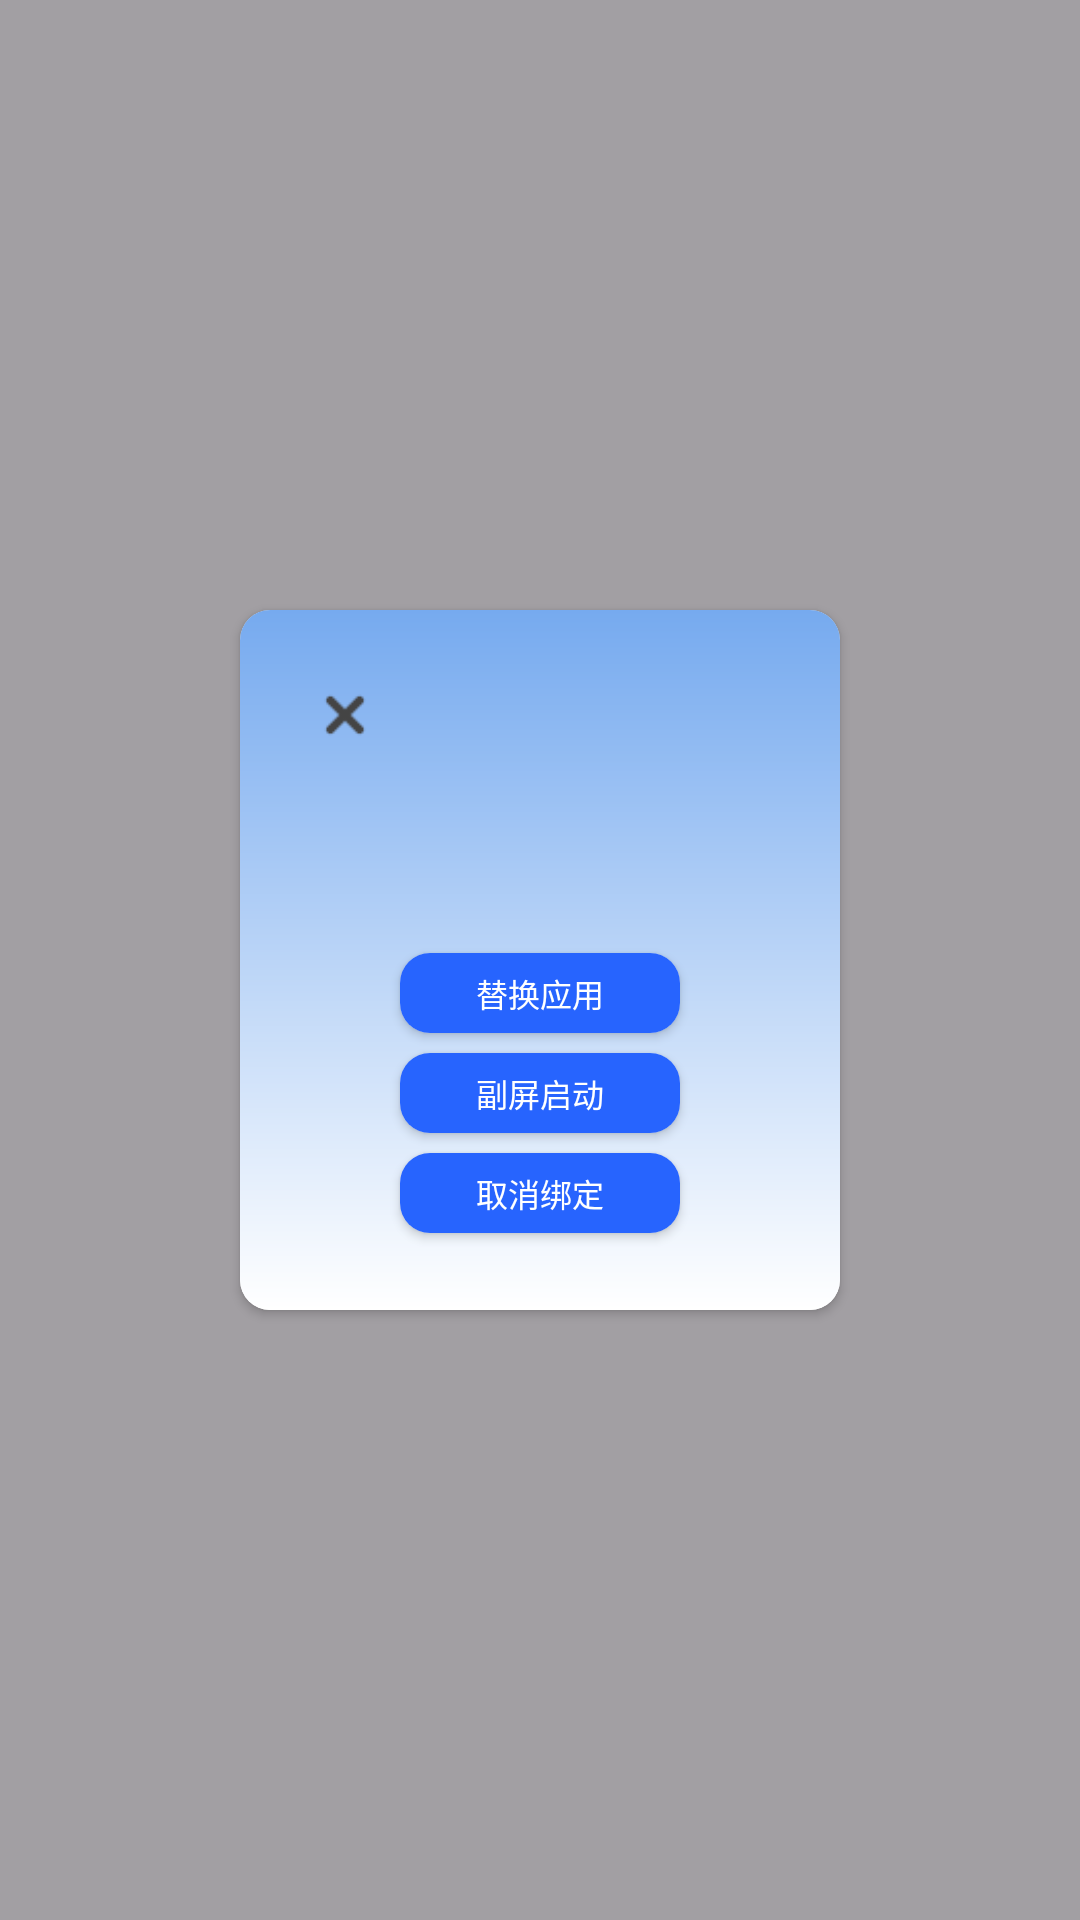

Where to tap for icons on this 1080 x 1920 app screen, as (x,y):
back all app: (345,715)
